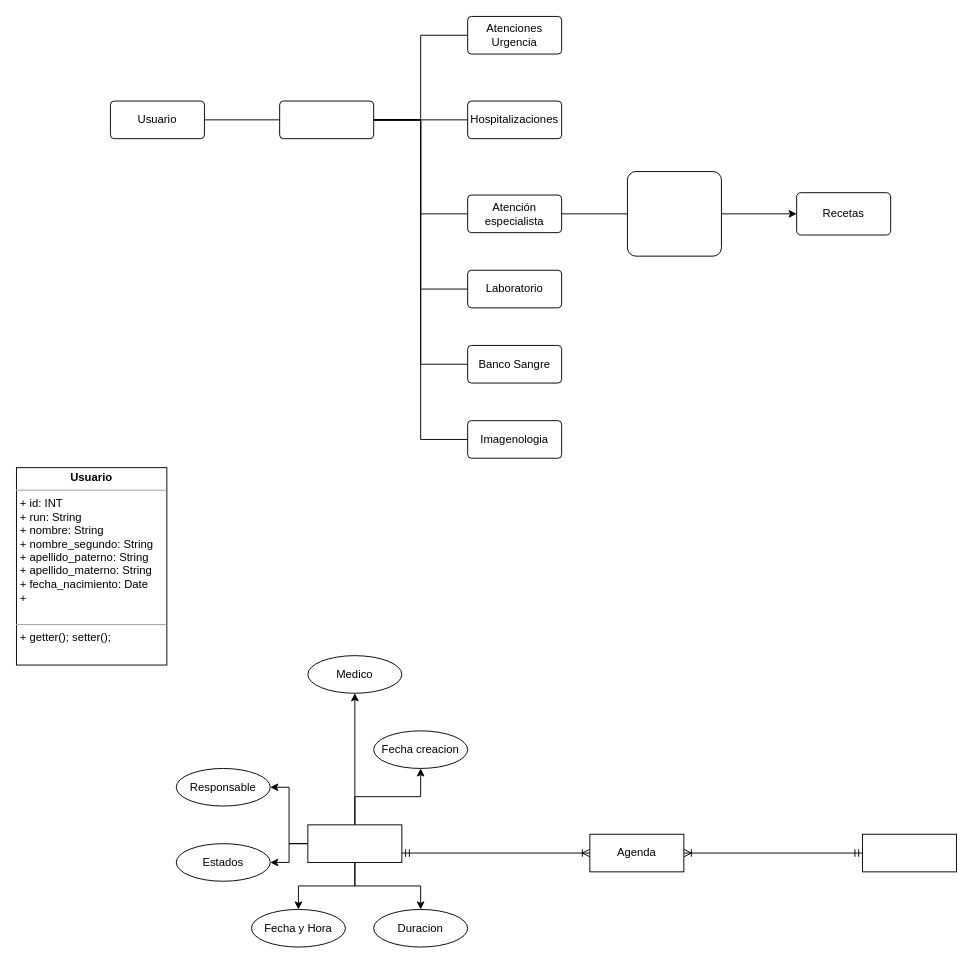
The diagram is 973 pixels wide and 964 high, and some of its shapes have lost their labels. The shapes that lost their labels are listed below. From the top down, each one's centre as x and y in pixels, then its label:
the point at 326,119: Historia Clinica
the point at 674,213: Medico general Oftalmologo Traumatologo Otorrino Etc
the point at 354,843: Bloque
the point at 909,852: Paciente
